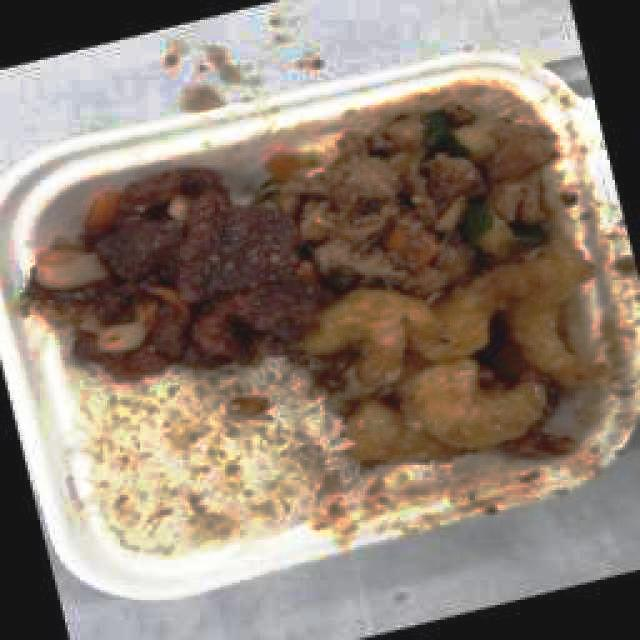Beijing Beef: (35, 163, 313, 353)
Kung Pao Chicken: (315, 113, 557, 275)
rice: (79, 369, 314, 552)
